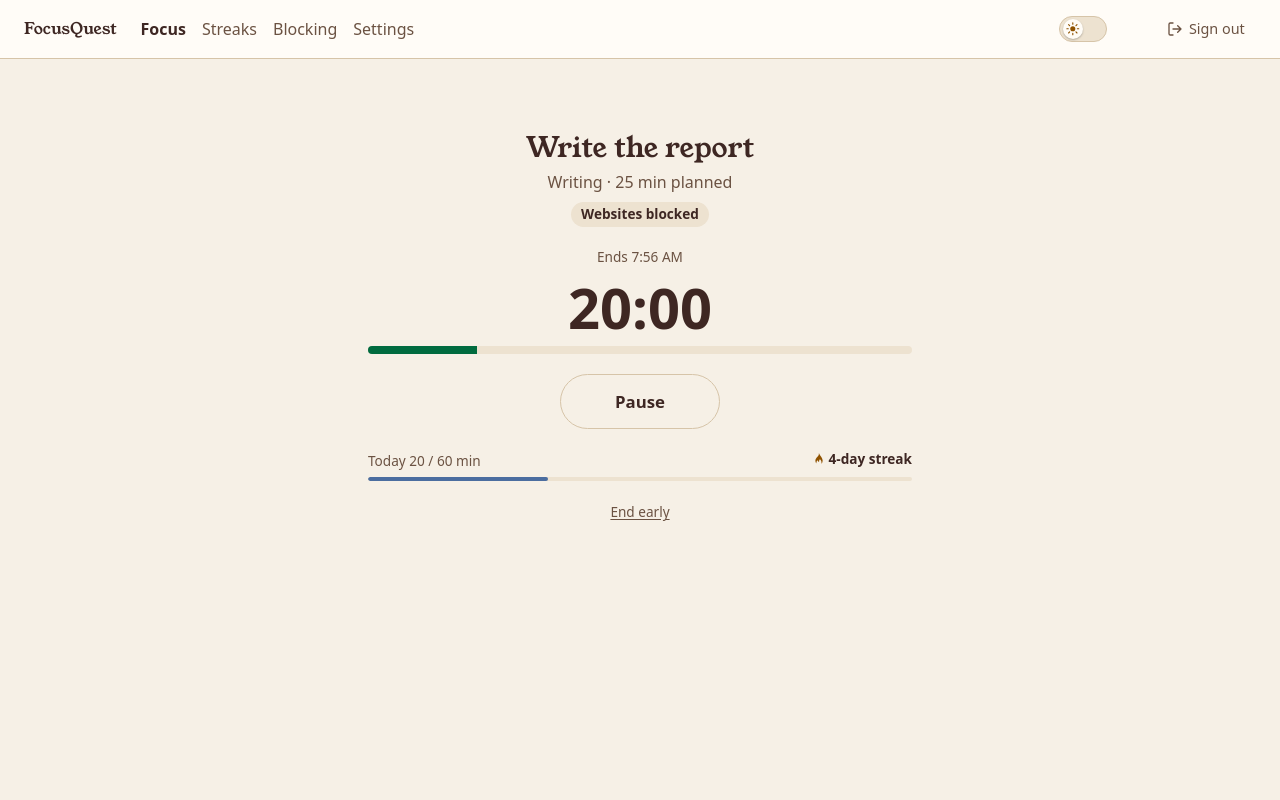
Test: DashboardView › goes straight back to the form once a session ends, without a summary
This screenshot has width=1280, height=800.
Click the button "End early".
click(640, 513)  # box [609,502,671,524]
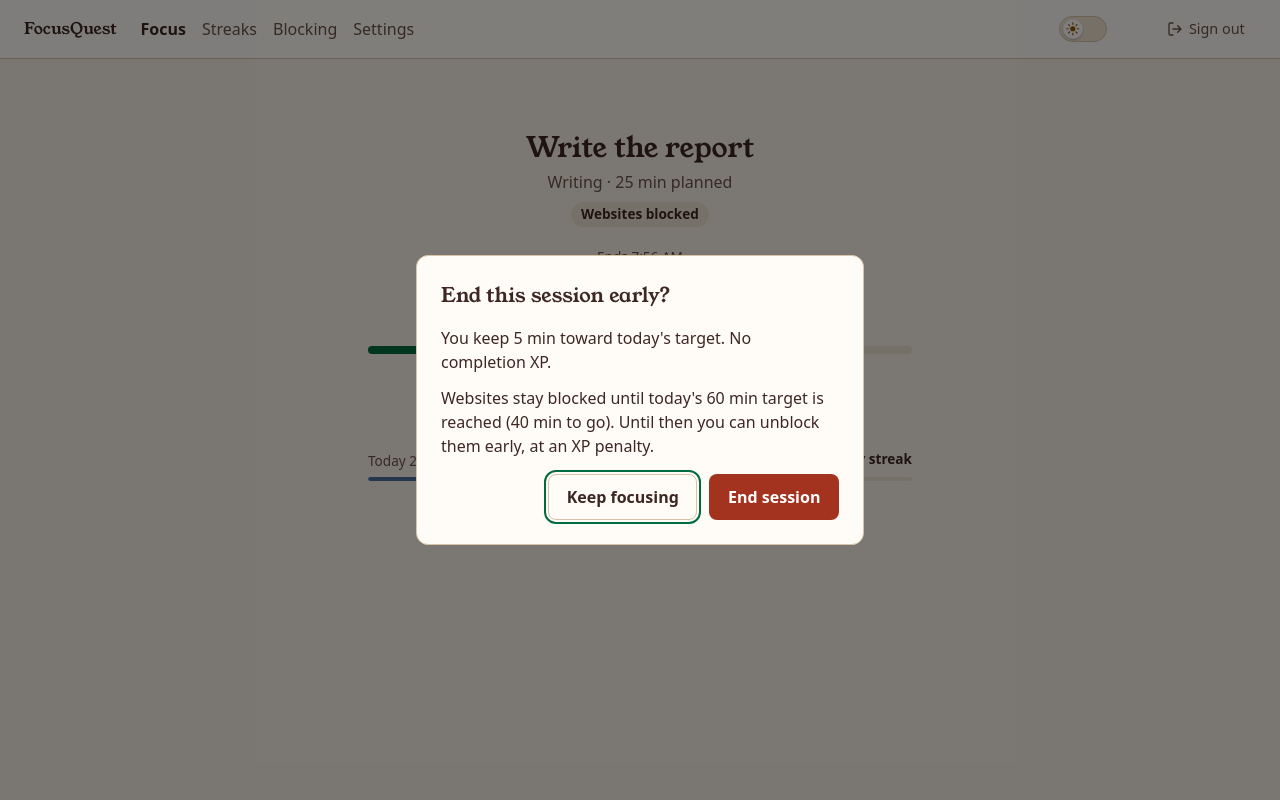
Click the button "End session".
click(774, 497)  # box [709,474,839,520]
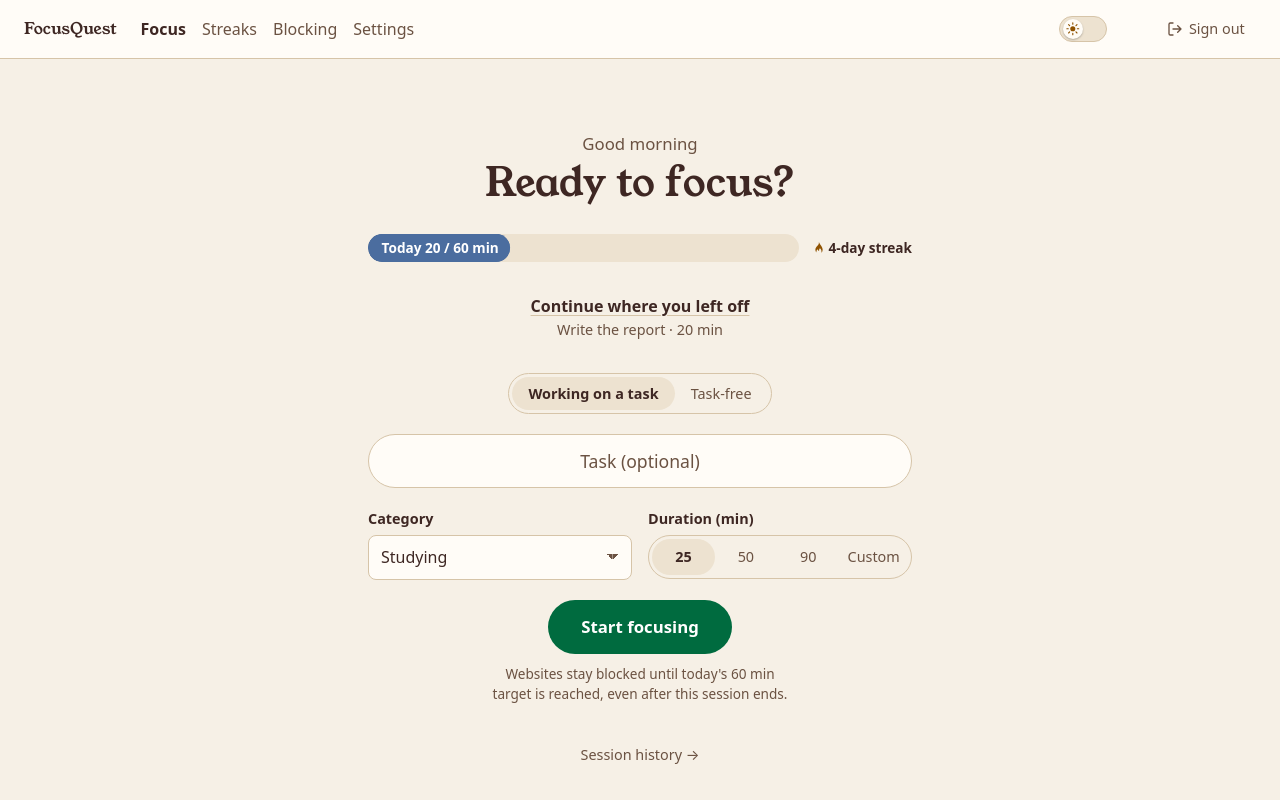
Now the form is shown, box [368,373,912,704]
